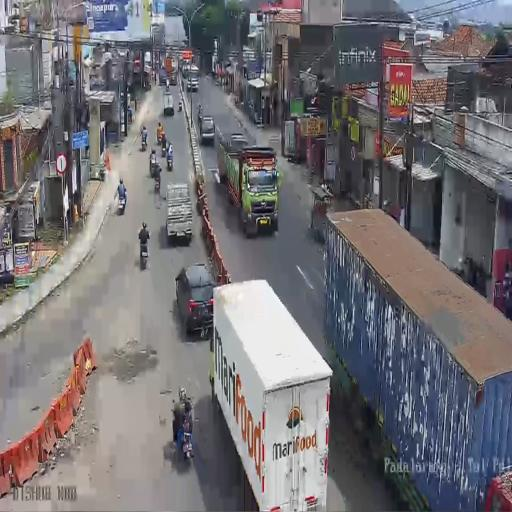3: (181, 60, 189, 77)
car: (175, 264, 216, 338), (198, 112, 215, 144), (163, 92, 174, 116), (159, 69, 168, 85), (169, 70, 177, 85)
truck: (118, 188, 128, 215), (166, 149, 173, 171), (140, 132, 148, 151)
